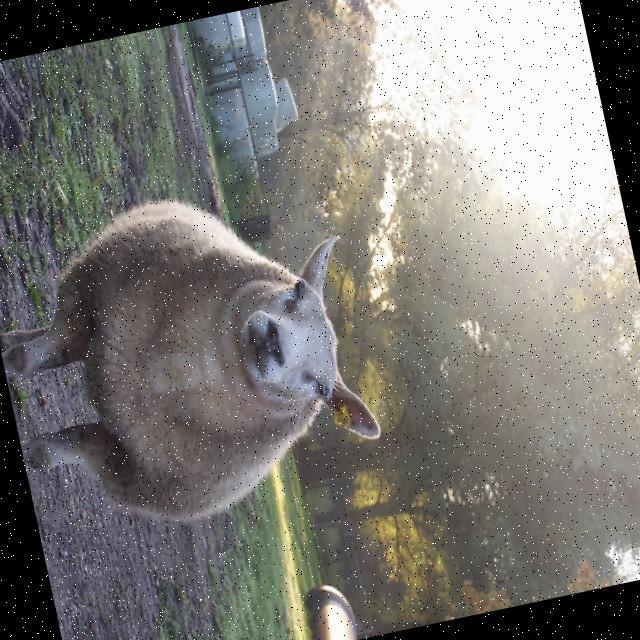sheep: (22, 199, 379, 522)
